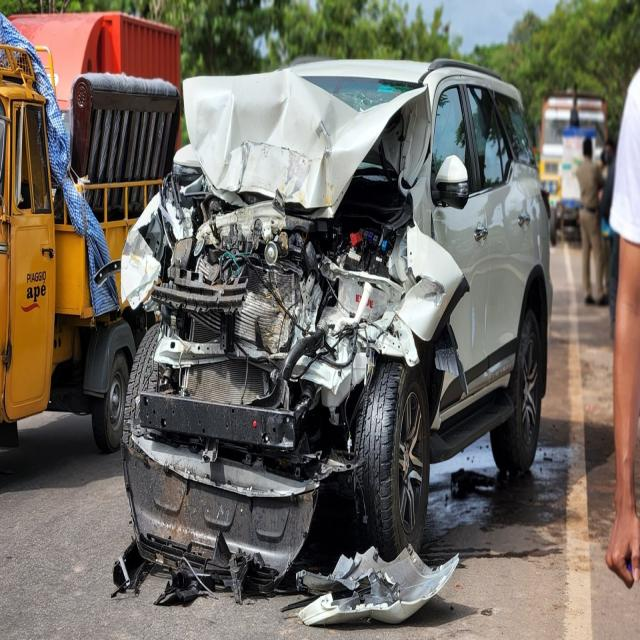accident: (114, 60, 551, 624)
truck: (0, 11, 180, 451)
